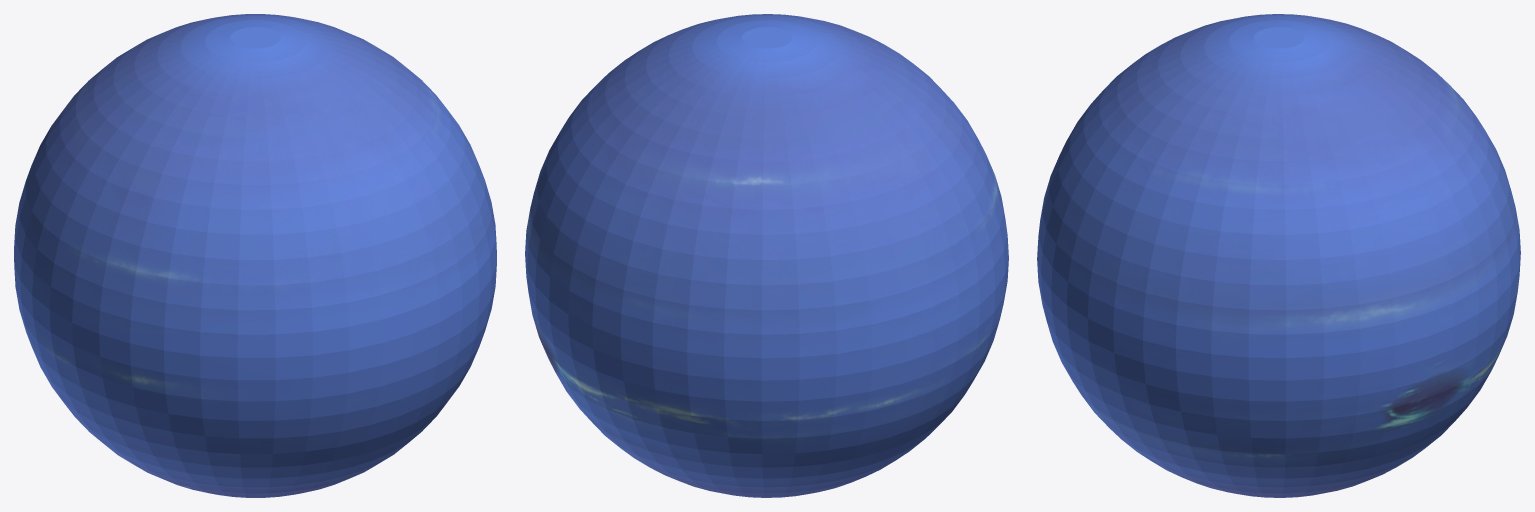
File: Neptune.glb
3 views of the same model, side by side, from view 1: azimuth 30°, elevation 25°; view 2: azimuth 150°, elevation 25°; view 3: azimuth 270°, elevation 25° (orthographic).
Parts seen in each view (by area): view 1: Sphere_008; view 2: Sphere_008; view 3: Sphere_008.
Boxes of the visible parts, x1,y1,x2,y2 form: Sphere_008: (14, 14, 496, 497); Sphere_008: (525, 14, 1008, 497); Sphere_008: (1037, 14, 1520, 497).
Size of the model in its own units: 4.56 by 4.54 by 4.56.
1 material, 1 textured.
